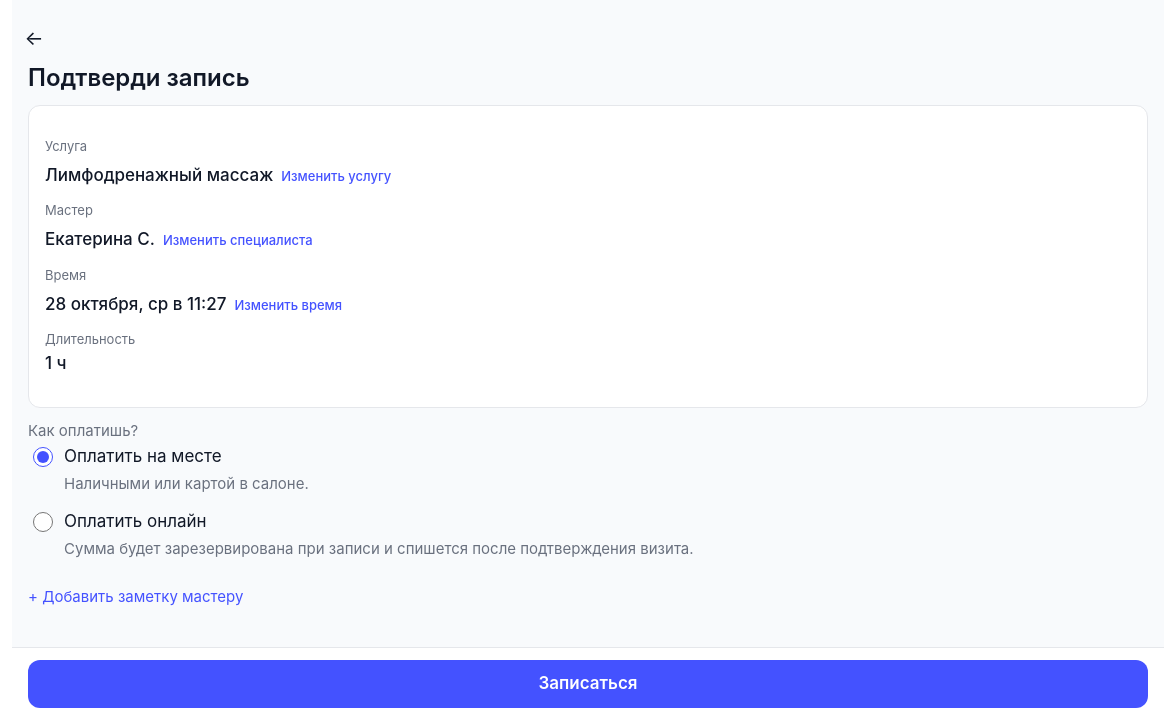
Test: кадр 5 «Создаю запись…» › виден во время создания и говорит правку 4 дословно
What coordinates should you click on to do the following:
click the button "Записаться"
I would click on:
 (588, 684)
Its box is [28,660,1148,708].
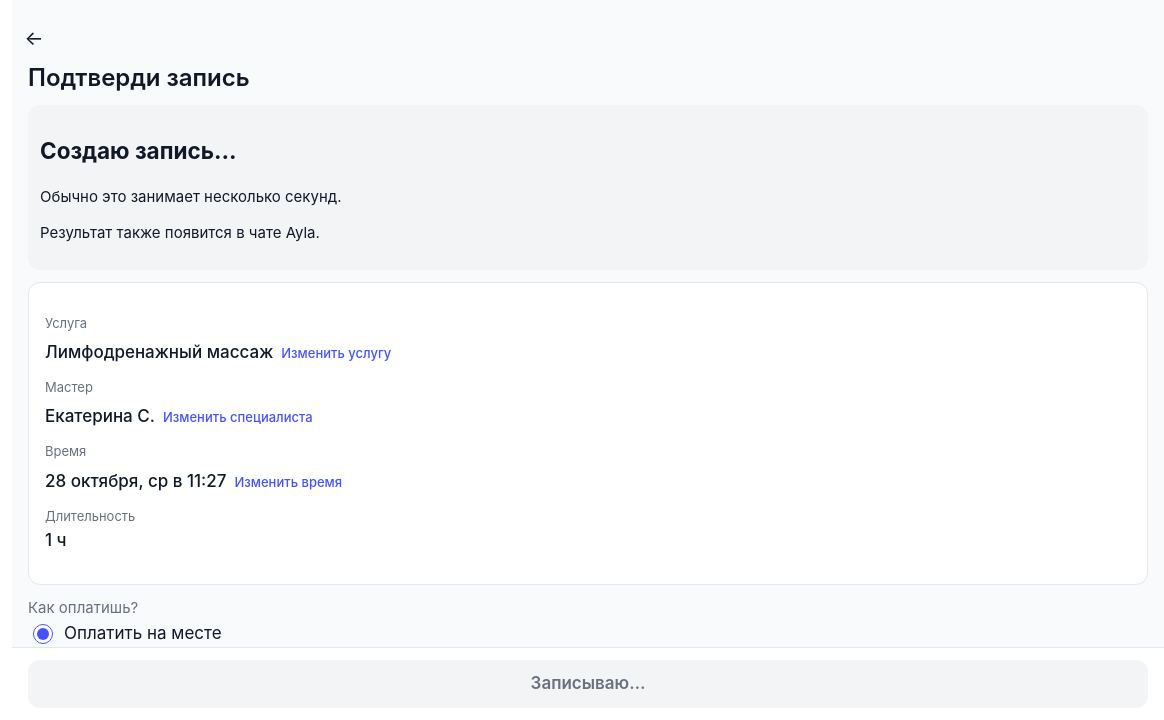
Now the heading "Создаю запись…" is shown, box [40,138,236,164]
Now the text "Обычно это занимает несколько секунд." is shown, box [40,187,342,206]
Now the text "Результат также появится в чате Ayla." is shown, box [40,223,320,242]
